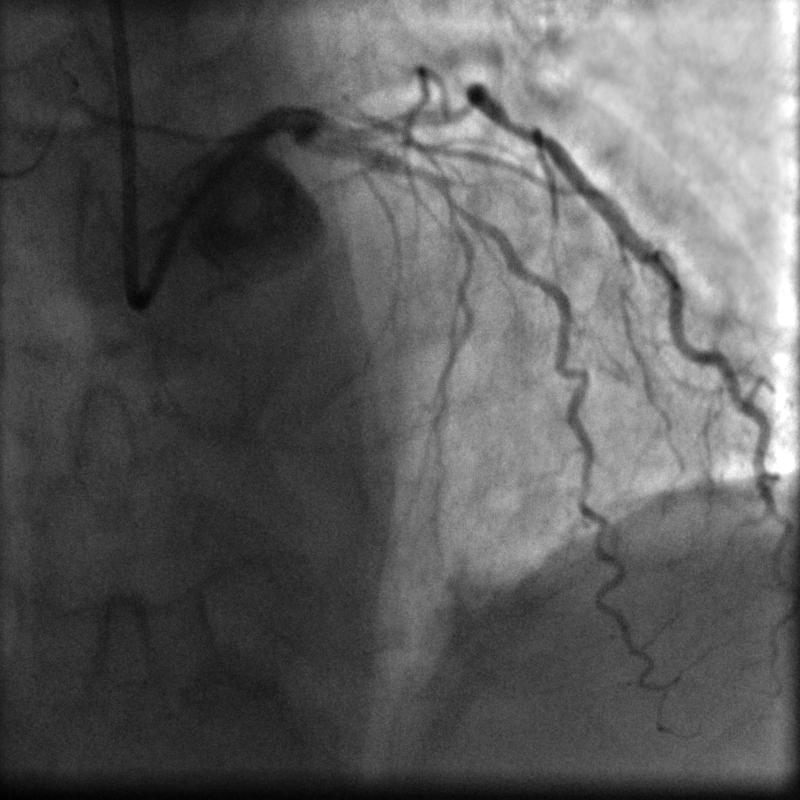Stenosis: (394, 150, 448, 199)
